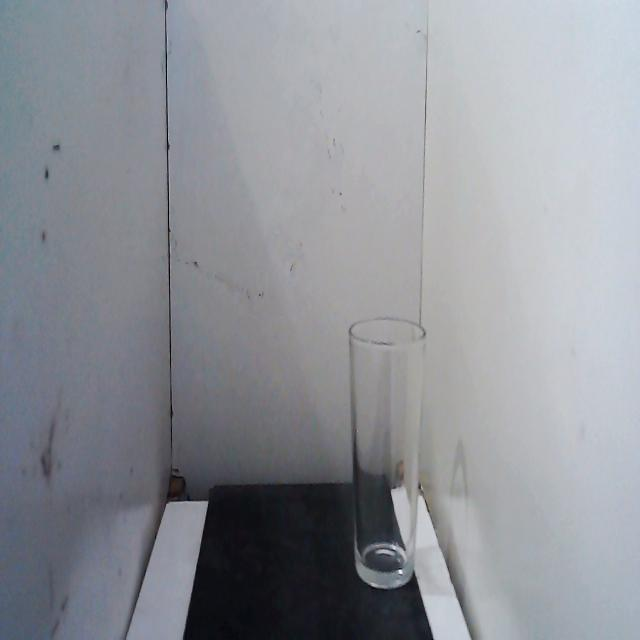vidro: (342, 302, 432, 599)
